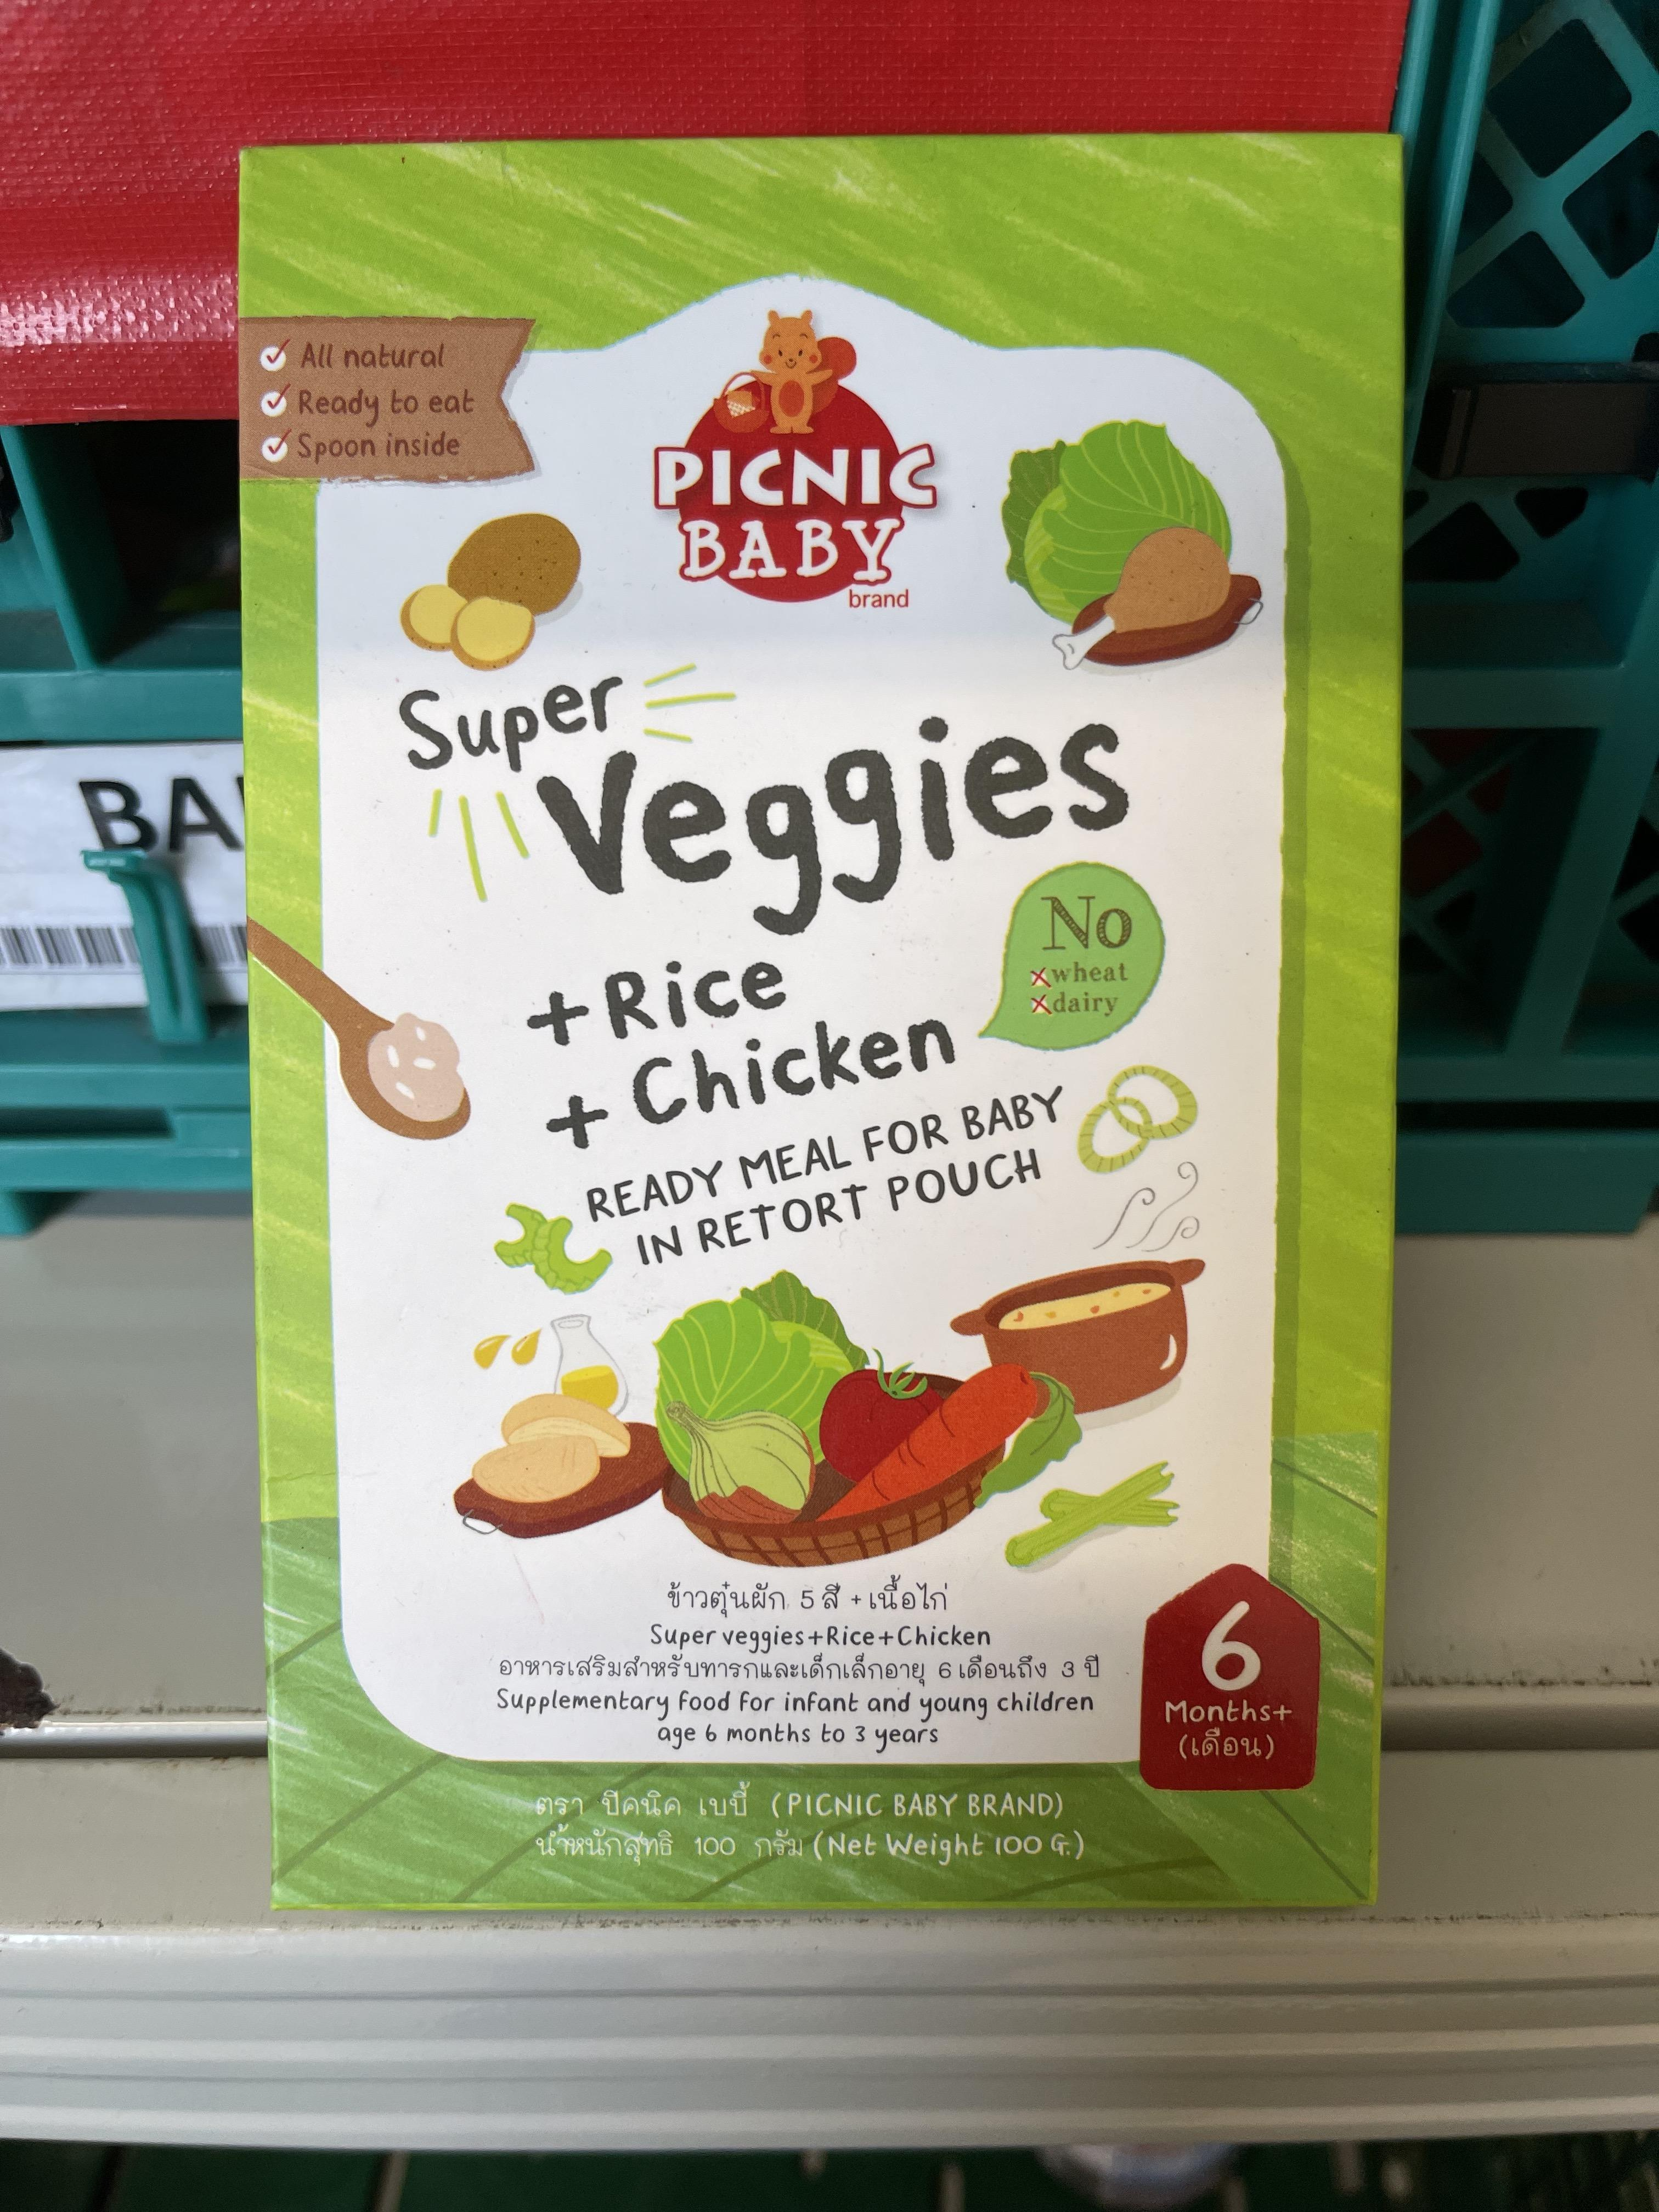object_name: (261, 171, 1352, 1892)
